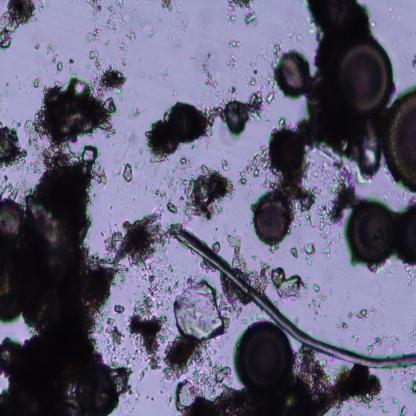Background material: (0, 162, 130, 414), (304, 1, 382, 180), (185, 367, 387, 413), (26, 75, 118, 142), (144, 96, 220, 162), (172, 280, 227, 340), (181, 162, 238, 218), (112, 211, 167, 265), (105, 0, 142, 77), (128, 308, 165, 374), (134, 264, 175, 311), (0, 1, 38, 51), (220, 92, 264, 135), (162, 337, 207, 375), (273, 171, 315, 209), (141, 176, 178, 218), (223, 32, 245, 99), (238, 140, 270, 184), (311, 196, 339, 243), (153, 48, 177, 100), (0, 124, 27, 170), (270, 266, 304, 302), (329, 182, 356, 225), (248, 56, 278, 94), (324, 312, 362, 338), (96, 66, 129, 93), (173, 378, 202, 408), (84, 1, 102, 46), (199, 57, 218, 94), (227, 231, 247, 266), (391, 366, 416, 393), (226, 0, 253, 22), (119, 101, 144, 124), (366, 334, 392, 356), (44, 43, 64, 71), (308, 296, 330, 321), (158, 0, 177, 25), (79, 145, 99, 163), (302, 243, 317, 266), (89, 48, 103, 72), (403, 264, 416, 289), (355, 304, 370, 323), (243, 10, 259, 27), (122, 163, 134, 184), (304, 210, 318, 228), (322, 240, 332, 258), (265, 90, 275, 105), (30, 77, 42, 89), (410, 326, 416, 348), (144, 394, 156, 404), (312, 281, 321, 294), (411, 51, 416, 72), (399, 404, 409, 414), (166, 393, 174, 404)
Diatom: (231, 317, 294, 394), (338, 40, 395, 113), (344, 196, 394, 269), (383, 87, 416, 192), (248, 193, 294, 246), (268, 130, 308, 172), (274, 49, 310, 95), (396, 206, 416, 266), (0, 197, 24, 244)
Microfibre: (170, 223, 416, 368)
